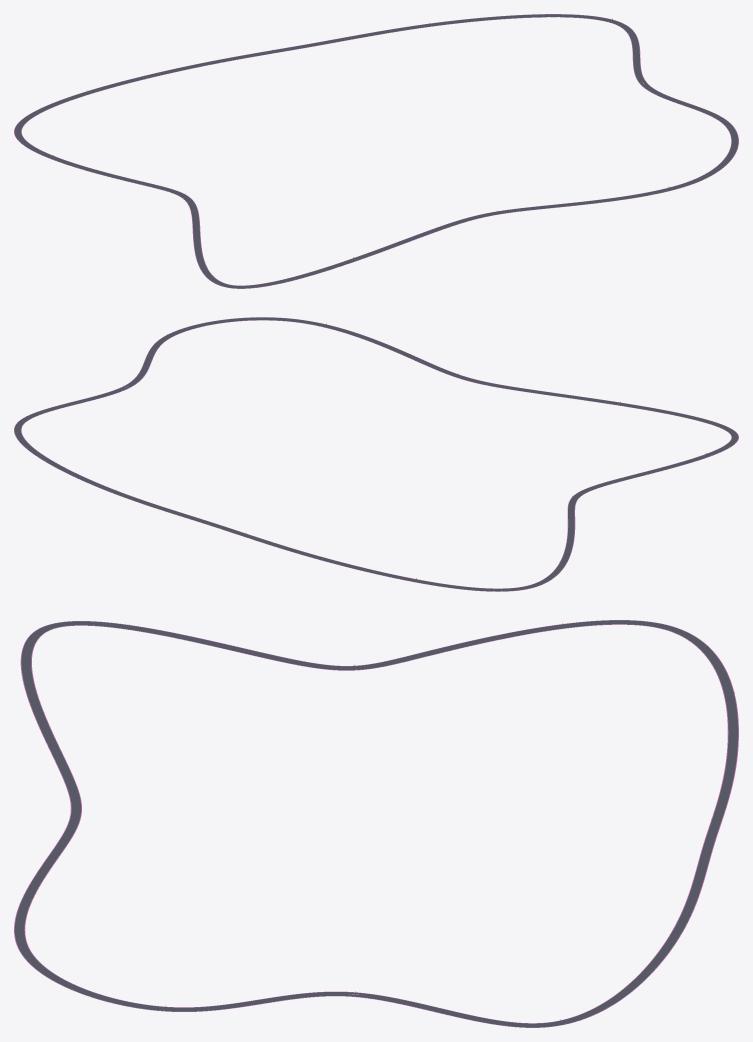
Rendered from Neon_Midnight_Run.glb.
The picture shows the model from 3 angles, top to bottom: view 1: azimuth 30°, elevation 25°; view 2: azimuth 150°, elevation 25°; view 3: azimuth 270°, elevation 25°; orthographic projection. The views are drawn at different scales.
Parts seen in each view (by area): view 1: road_surface, inner_shoulder, outer_shoulder; view 2: road_surface, inner_shoulder, outer_shoulder; view 3: road_surface, inner_shoulder, outer_shoulder.
Boxes of the visible parts, x1,y1,x2,y2 form: road_surface: (14,14,738,288); inner_shoulder: (14,14,738,288); outer_shoulder: (21,17,731,285); road_surface: (14,317,738,591); inner_shoulder: (14,317,738,591); outer_shoulder: (21,320,731,588); road_surface: (14,620,738,1027); inner_shoulder: (14,620,738,1027); outer_shoulder: (24,624,728,1023).
Size of the model in its own units: 3775 by 6.12 by 2835.
